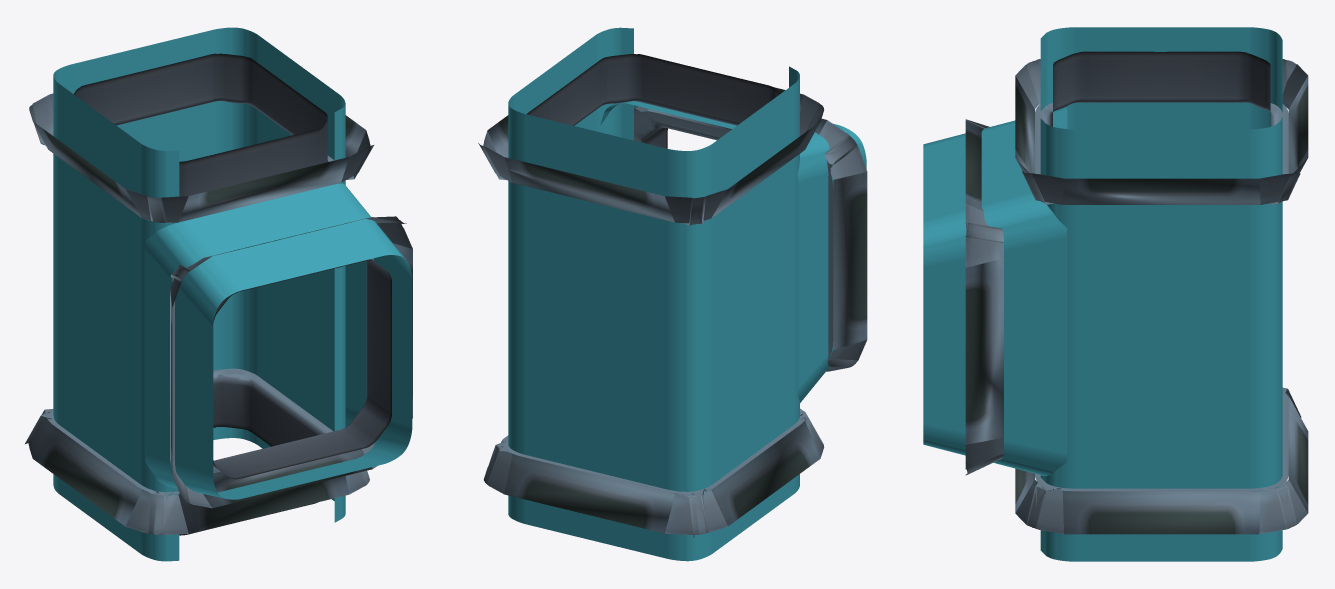
Rendered from obj_interactive_pipe_T.fbx.
3 views of the same model, side by side, from view 1: azimuth 30°, elevation 25°; view 2: azimuth 150°, elevation 25°; view 3: azimuth 270°, elevation 25° (orthographic). The views are drawn at different scales.
Visible parts, largest first — view 1: obj_interactive_pipe03.001; view 2: obj_interactive_pipe03.001; view 3: obj_interactive_pipe03.001.
Part boxes in pixels (left/top/right/bottom): obj_interactive_pipe03.001: left=25, top=27, right=412, bottom=561; obj_interactive_pipe03.001: left=478, top=27, right=867, bottom=561; obj_interactive_pipe03.001: left=923, top=27, right=1308, bottom=561.
Bounding box in the file's own units: 2 × 3 × 2.5.
